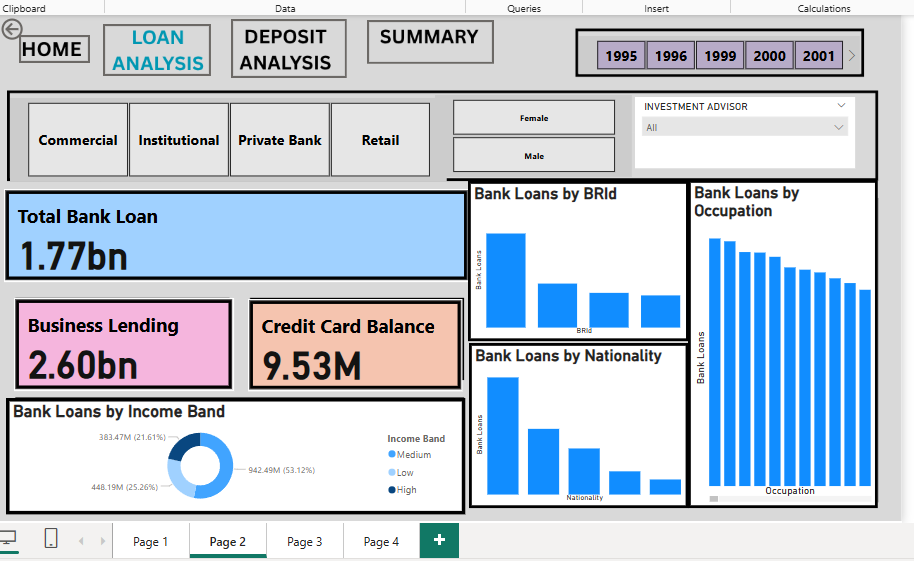

The page's visual inventory and layout, read from the dashboard file:
{"tool":"powerbi","page":{"name":"Page 2","canvas":[1280,720],"ordinal":1},"visuals":[{"type":"slicer","fields":{"Values":["banking-clients.Year of Joinings"]},"box":[823.5,29.8,398.3,53.9],"z":0},{"type":"actionButton","box":[29.8,28.3,100.6,39.7],"z":1000},{"type":"cardVisual","fields":{"Data":["Sum(banking-clients.Bank Loans)"]},"box":[8.5,246.6,659.1,131.8],"z":2000},{"type":"cardVisual","fields":{"Data":["Sum(banking-clients.Business Lending)"]},"box":[22.7,401.1,311.8,131.8],"z":3000},{"type":"cardVisual","fields":{"Data":["Sum(banking-clients.Credit Card Balance)"]},"box":[354.9,402.8,304.2,131],"z":4000},{"type":"donutChart","title":" Bank Loans by Income Band","fields":{"Category":["banking-clients.Income Band"],"Y":["Sum(banking-clients.Bank Loans)"]},"box":[11.3,542.3,650.7,164.8],"z":5000},{"type":"clusteredColumnChart","fields":{"Category":["banking-clients.BRId"],"Y":["Sum(banking-clients.Bank Loans)"]},"box":[666.2,235.2,312.7,226.8],"z":6000},{"type":"clusteredColumnChart","fields":{"Category":["banking-clients.Nationality"],"Y":["Sum(banking-clients.Bank Loans)"]},"box":[667.6,464.8,311.3,233.8],"z":7000},{"type":"clusteredColumnChart","fields":{"Category":["banking-clients.Occupation"],"Y":["Sum(banking-clients.Bank Loans)"]},"box":[977.5,233.8,269,464.8],"z":8000},{"type":"slicer","fields":{"Values":["banking-clients.IAId"]},"box":[902.8,116.2,311.8,100.6],"z":9000},{"type":"slicer","fields":{"Values":["banking-clients.BRId"]},"box":[17,117.6,619.4,117.6],"z":10000},{"type":"actionButton","box":[0,0,100,40],"z":11000},{"type":"slicer","fields":{"Values":["banking-clients.GenderId"]},"box":[619.4,113.4,279.2,116.2],"z":12000},{"type":"actionButton","box":[29.8,28.3,100.6,39.7],"z":13000},{"type":"actionButton","box":[148.8,12.8,153.1,73.7],"z":14000},{"type":"actionButton","box":[330.2,5.7,164.4,83.6],"z":15000},{"type":"actionButton","box":[523,7.1,180,62.4],"z":16000}]}

Visuals, with their boxes on the page's 1280x720 design canvas (x1, y1, x2, y2). These are canvas units, not pixel positions in the 914x561 screenshot, which may show the page scaled, cropped or inside an application window:
slicer - banking-clients.Year of Joinings: left=824, top=30, right=1222, bottom=84
actionButton: left=30, top=28, right=130, bottom=68
cardVisual - Sum(banking-clients.Bank Loans): left=8, top=247, right=668, bottom=378
cardVisual - Sum(banking-clients.Business Lending): left=23, top=401, right=334, bottom=533
cardVisual - Sum(banking-clients.Credit Card Balance): left=355, top=403, right=659, bottom=534
" Bank Loans by Income Band" donutChart: left=11, top=542, right=662, bottom=707
clusteredColumnChart - banking-clients.BRId x Sum(banking-clients.Bank Loans): left=666, top=235, right=979, bottom=462
clusteredColumnChart - banking-clients.Nationality x Sum(banking-clients.Bank Loans): left=668, top=465, right=979, bottom=699
clusteredColumnChart - banking-clients.Occupation x Sum(banking-clients.Bank Loans): left=978, top=234, right=1246, bottom=699
slicer - banking-clients.IAId: left=903, top=116, right=1215, bottom=217
slicer - banking-clients.BRId: left=17, top=118, right=636, bottom=235
actionButton: left=0, top=0, right=100, bottom=40
slicer - banking-clients.GenderId: left=619, top=113, right=899, bottom=230
actionButton: left=30, top=28, right=130, bottom=68
actionButton: left=149, top=13, right=302, bottom=86
actionButton: left=330, top=6, right=495, bottom=89
actionButton: left=523, top=7, right=703, bottom=70
